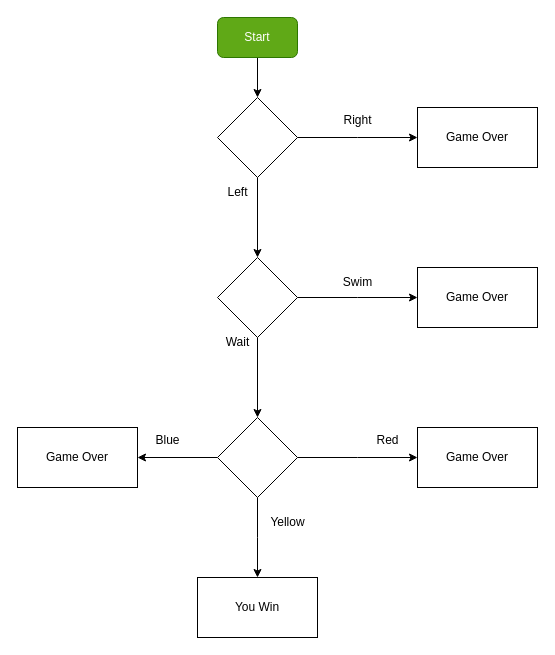
Image size: 555x655. Some labels were removed from this diagram. The centre of each missing label's shape, as x and y in pixels:
"Right or Left" belongs at pixel 257 137.
"Swim or Wait" belongs at pixel 257 297.
"Three Doors" belongs at pixel 257 457.
